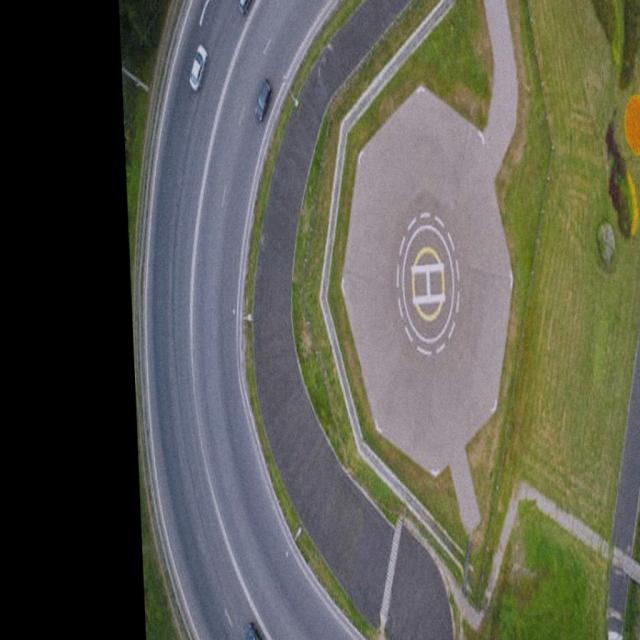helipad: (398, 222, 456, 342)
